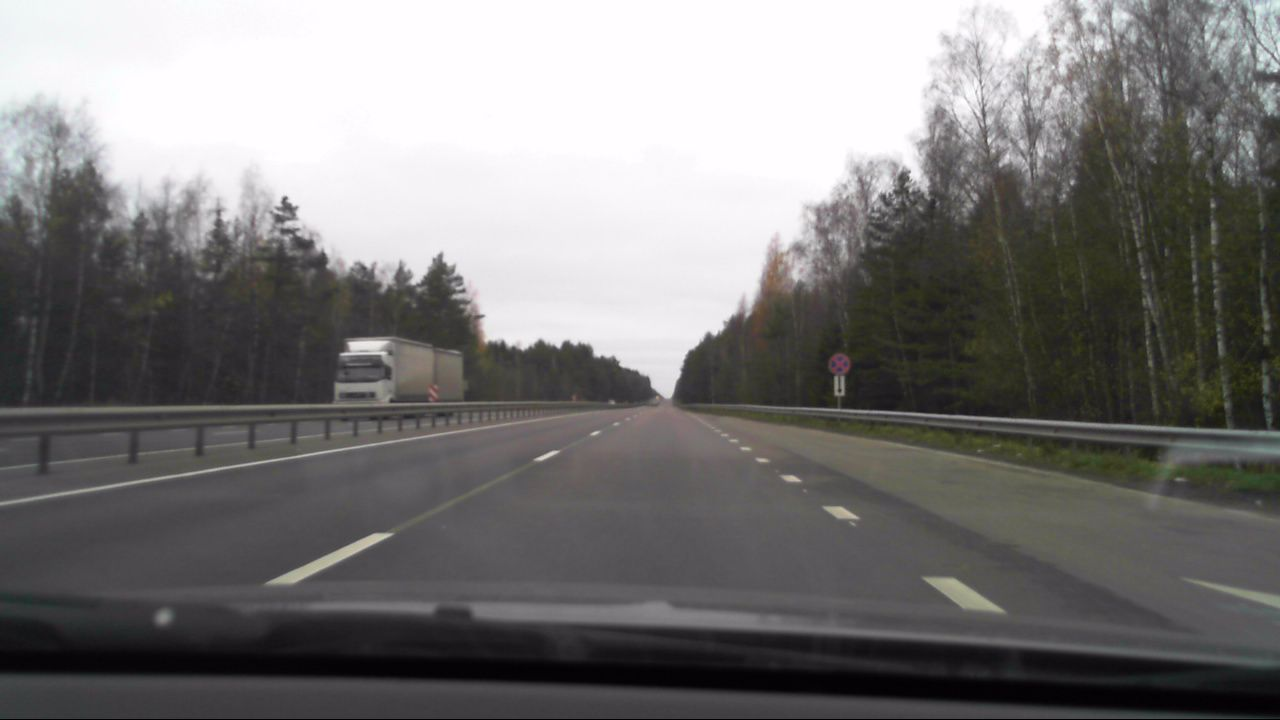No Parking: (828, 352, 850, 374)
